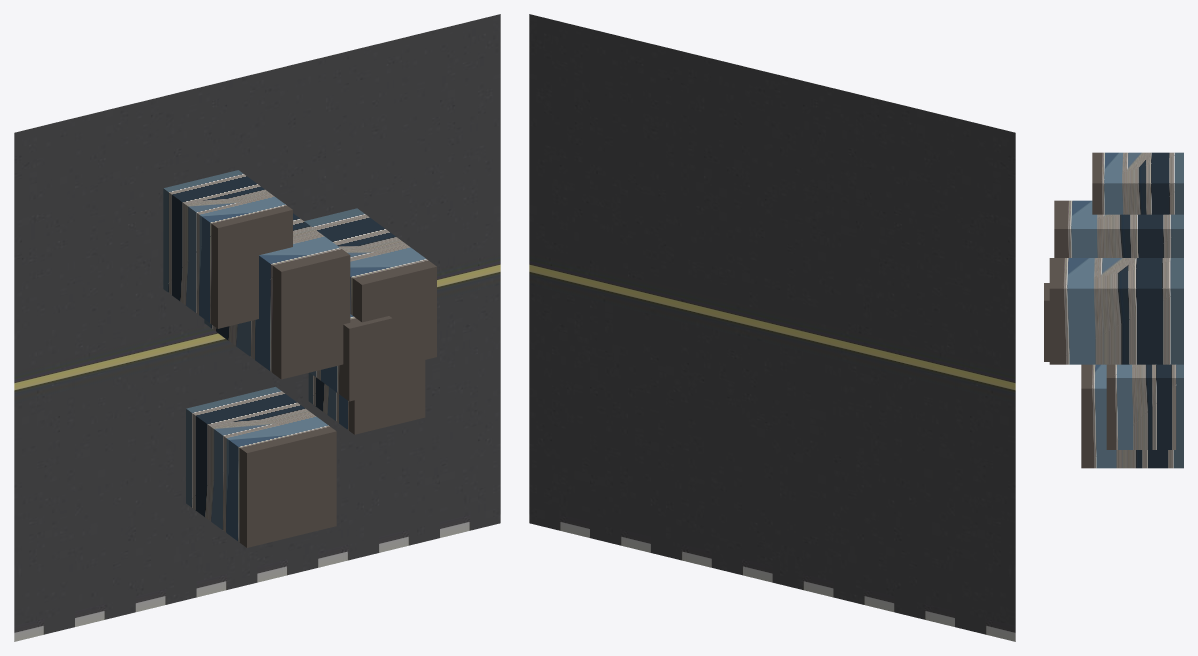
3 renders of one model, left to right at view 1: azimuth 30°, elevation 25°; view 2: azimuth 150°, elevation 25°; view 3: azimuth 270°, elevation 25°, orthographic. The views are drawn at different scales.
Size of the model in its own units: 119 by 119 by 35.25.
2 materials, 2 textured.
